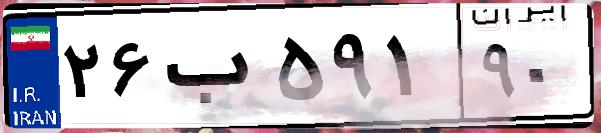0: (525, 38, 570, 115)
1: (385, 28, 445, 110)
2: (57, 26, 110, 100)
5: (270, 28, 330, 110)
6: (110, 28, 158, 98)
9: (330, 28, 385, 110), (475, 38, 525, 113)
ب: (158, 20, 270, 120)
